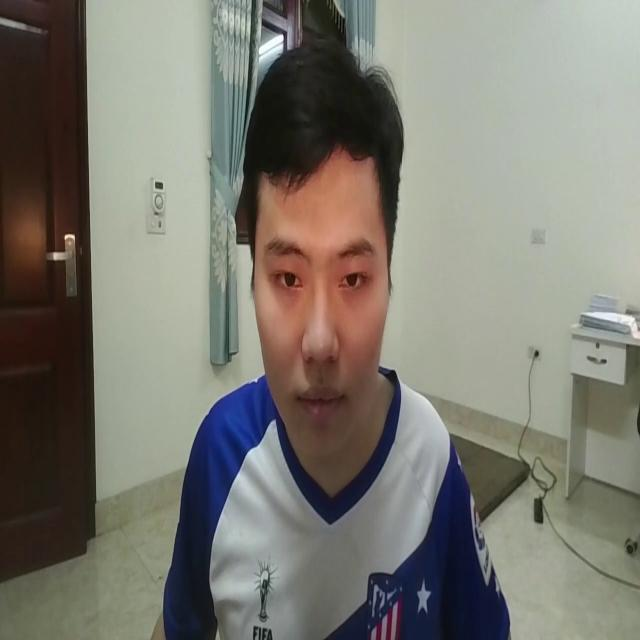student: (128, 37, 518, 640)
